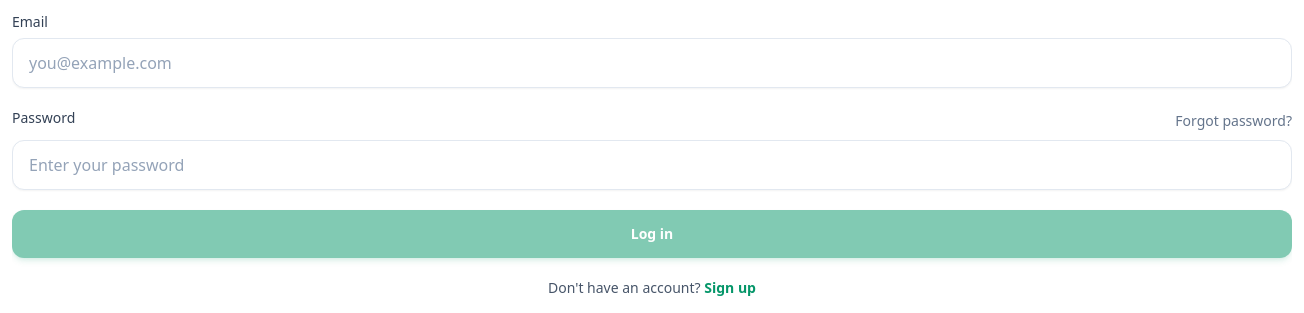
it: LoginForm › shows "Signing in…" while the form is submitting
Type "a@test.com" into the field labelled "Email" at [652, 63], box [12,38,1292,88]
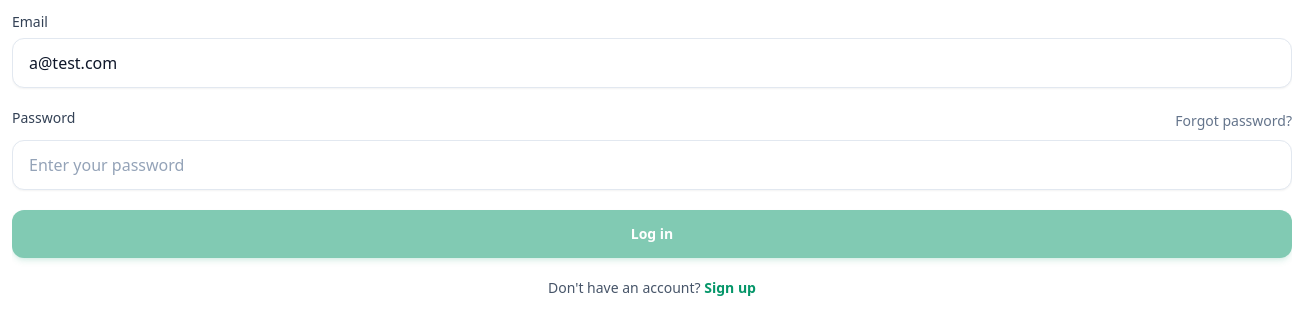
Type "pass1234" into the password field with placeholder "Enter your password" at [652, 165], box [12,140,1292,190]
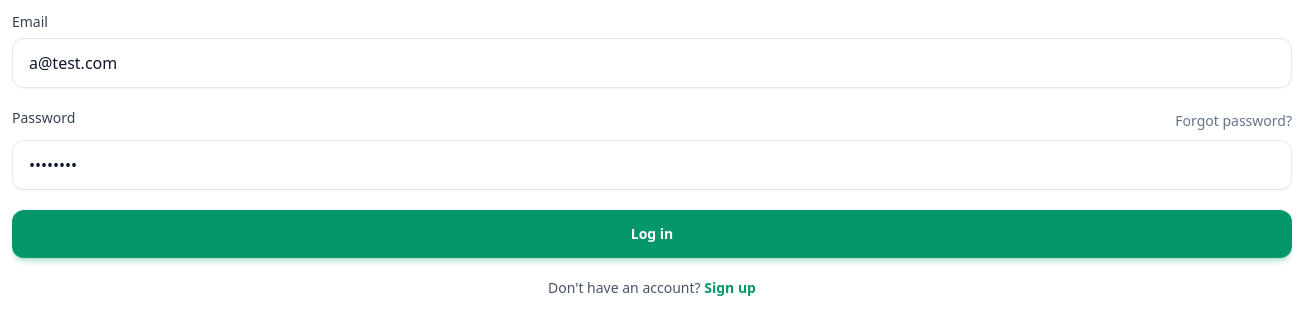
Click the button "Log in" at [652, 234], box [12,210,1292,258]
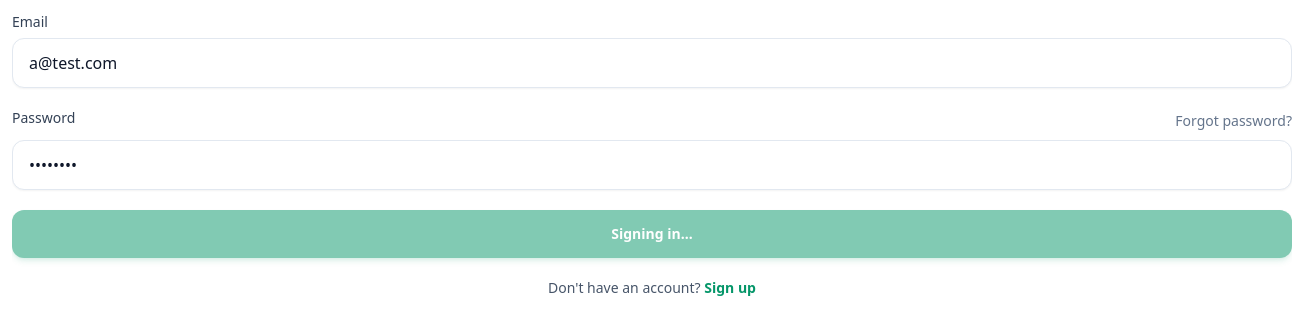
Check: the button shows "Signing in", box [12,210,1292,258]
